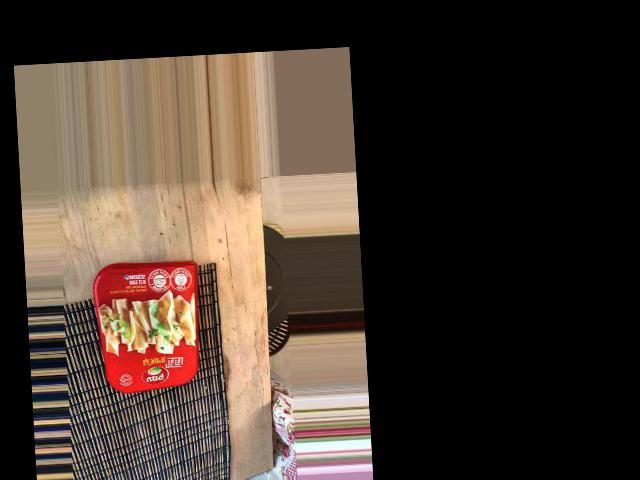cheese: (70, 361, 208, 455)
